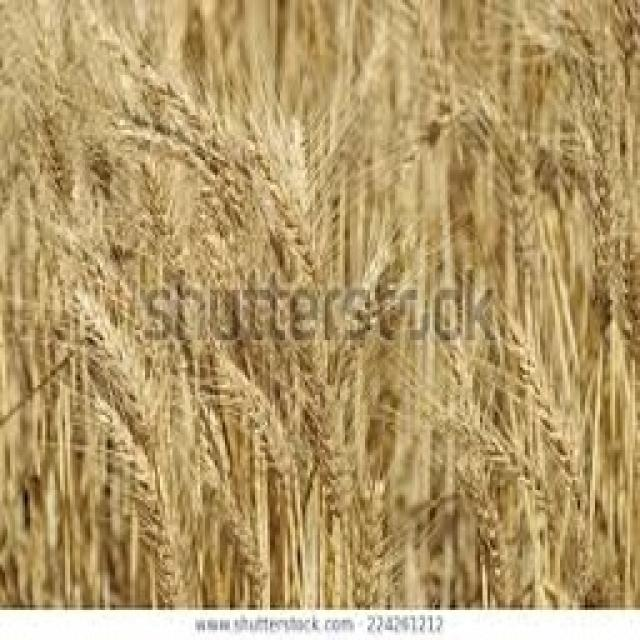Healthy Wheat: (0, 0, 638, 605)
